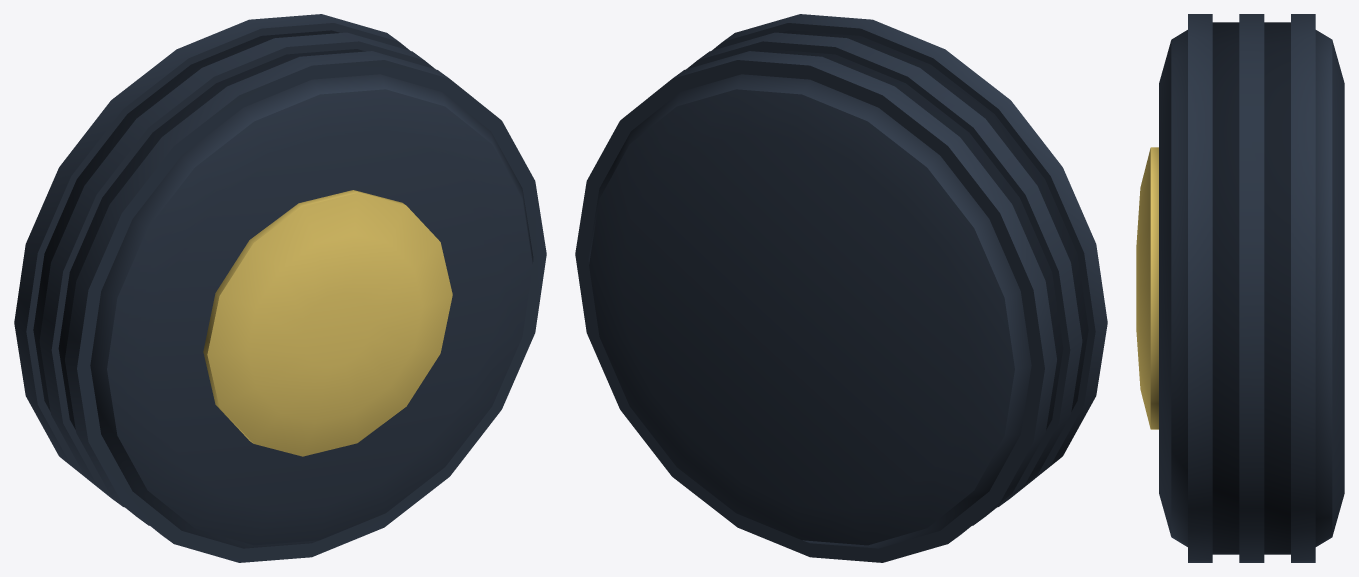
File: tyre.glb
3 views of the same model, side by side, from view 1: azimuth 30°, elevation 25°; view 2: azimuth 150°, elevation 25°; view 3: azimuth 270°, elevation 25° (orthographic).
Visible parts, largest first — view 1: dark, trim; view 2: dark; view 3: dark, trim.
Part boxes in pixels (<box>): dark: <box>14,14,546,562</box>; trim: <box>203,190,452,456</box>; dark: <box>575,14,1107,562</box>; dark: <box>1159,14,1344,562</box>; trim: <box>1136,147,1158,429</box>.
Bounding box in the file's own units: 0.536 × 0.536 × 0.202.
